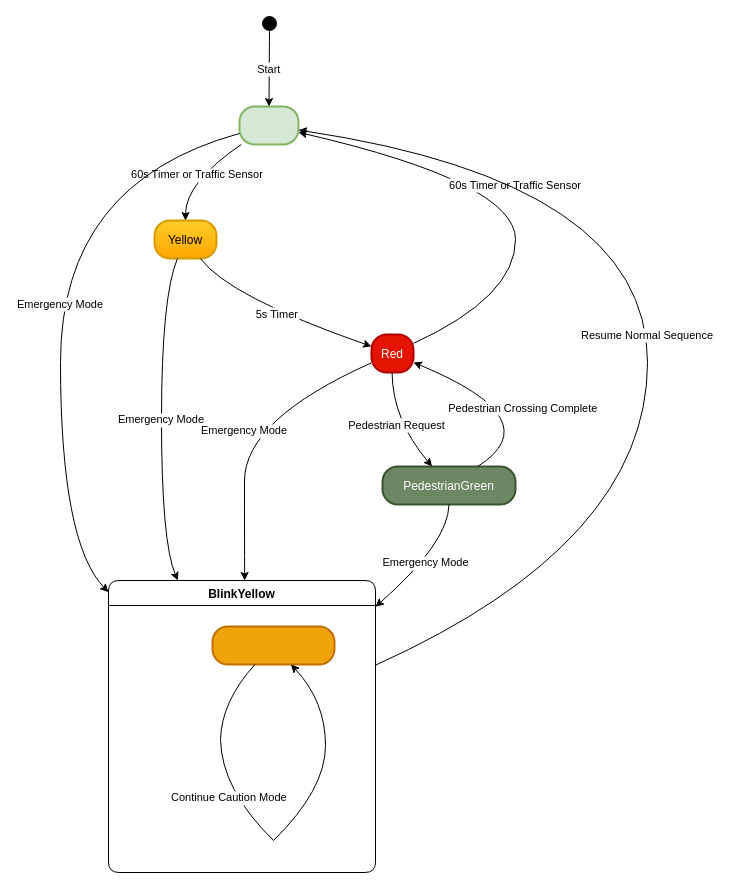
Some shapes in this 731 by 889 pixel diagram are drawn without their labels. Each missing label, with the centre of its shape:
Blinking Yellow: point 273,645
Green: point 268,125
